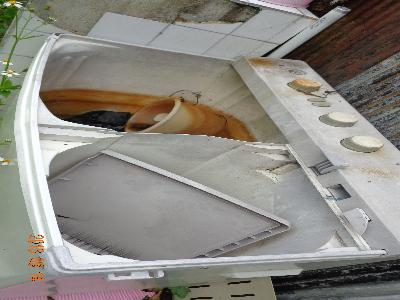bucket: (122, 94, 227, 137)
washing_machine: (14, 30, 400, 295)
